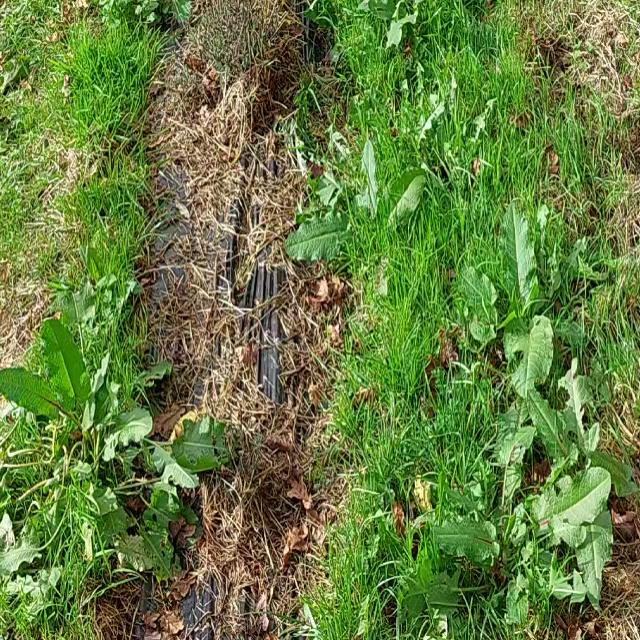organic waste: (5, 270, 222, 640), (288, 127, 468, 308), (420, 439, 594, 620), (439, 193, 578, 400), (508, 364, 628, 534)
